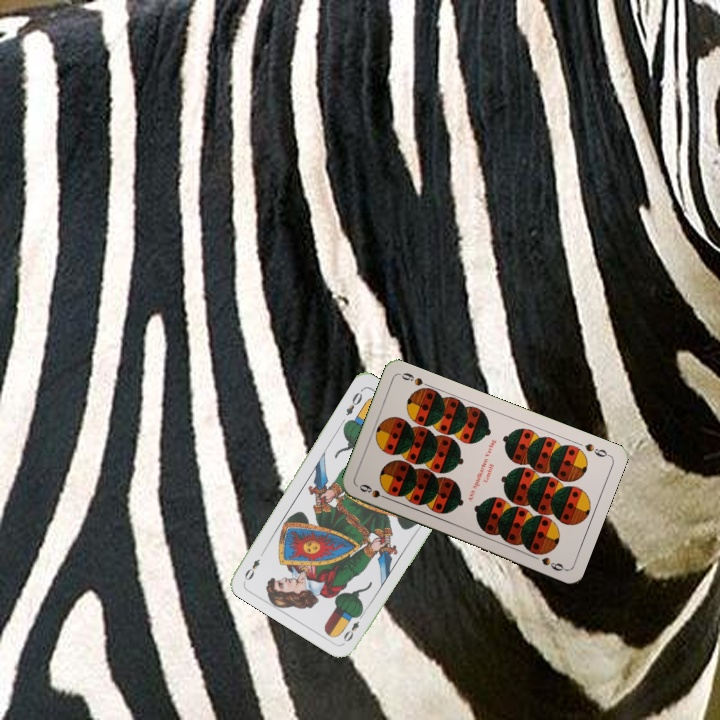EO: (339, 608, 367, 645), (342, 385, 365, 418)
S9: (355, 480, 393, 503), (581, 439, 612, 460)
